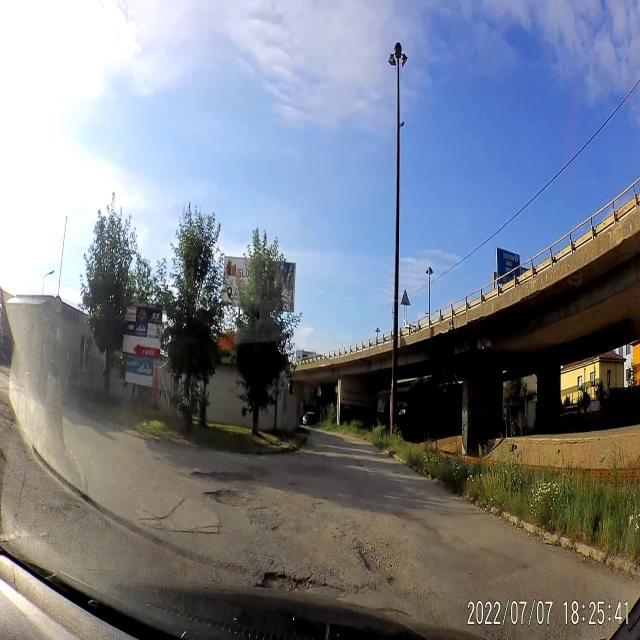Pothole: (256, 560, 339, 607), (348, 522, 409, 580), (204, 485, 253, 513)
